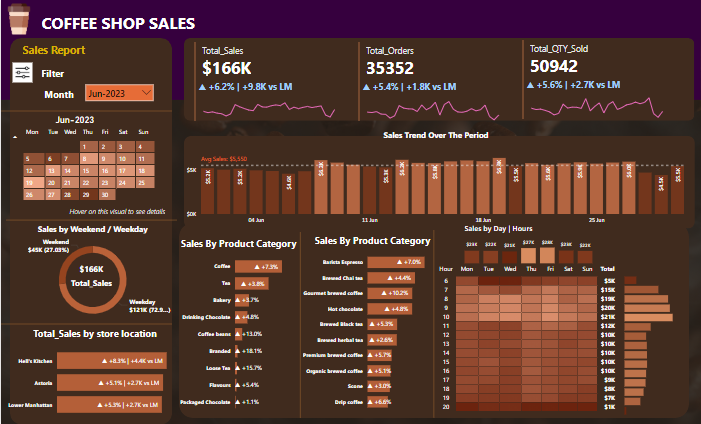

The page's visual inventory and layout, read from the dashboard file:
{"tool":"powerbi","page":{"name":"Page 1","canvas":[1400,850],"ordinal":0},"visuals":[{"type":"shape","box":[0,0,1399.6,199.7],"z":0},{"type":"shape","box":[18.8,76.8,324.3,773.2],"z":1000},{"type":"shape","box":[367,76.8,1020.7,165.6],"z":2000},{"type":"textbox","box":[76,18,358,58],"z":3000},{"type":"cardVisual","fields":{"Data":["Transactions.Total_QTY_Sold"]},"box":[1038,76,300,166],"z":4000,"group":"g3"},{"type":"cardVisual","fields":{"Data":["Transactions.Total_Sales"]},"box":[382,80,300,166],"z":4000,"group":"g1"},{"type":"cardVisual","fields":{"Data":["Transactions.Total_Orders"]},"box":[710,80,300,166],"z":4000,"group":"g2"},{"type":"slicer","fields":{"Values":["Date_Table.Month_Year"]},"box":[164,164,146,44],"z":4000},{"type":"group","id":"g1","title":"Group 1","box":[382,80,300,166],"z":5000},{"type":"lineChart","fields":{"Category":["Date_Table.Date.Variation.Date Hierarchy.Year","Date_Table.Date.Variation.Date Hierarchy.Quarter","Date_Table.Date.Variation.Date Hierarchy.Month","Date_Table.Date.Variation.Date Hierarchy.Day"],"Y":["Transactions.Total_QTY_Sold"]},"box":[1046,155.6,292.2,86.7],"z":5001,"group":"g3"},{"type":"lineChart","fields":{"Y":["Transactions.Total_Sales"],"Category":["Date_Table.Date.Variation.Date Hierarchy.Year","Date_Table.Date.Variation.Date Hierarchy.Quarter","Date_Table.Date.Variation.Date Hierarchy.Month","Date_Table.Date.Variation.Date Hierarchy.Day"]},"box":[390,159.6,292.2,86.7],"z":5001,"group":"g1"},{"type":"lineChart","fields":{"Category":["Date_Table.Date.Variation.Date Hierarchy.Year","Date_Table.Date.Variation.Date Hierarchy.Quarter","Date_Table.Date.Variation.Date Hierarchy.Month","Date_Table.Date.Variation.Date Hierarchy.Day"],"Y":["Transactions.Total_Orders"]},"box":[718,159.6,292.2,86.7],"z":5001,"group":"g2"},{"type":"group","id":"g2","title":"Group 1","box":[710,80,300,166],"z":6000},{"type":"group","id":"g3","title":"Group 1","box":[1038,76,300,166],"z":7000},{"type":"pivotTable","fields":{"Rows":["Date_Table.Week_Num"],"Columns":["Date_Table.Day_Name"],"Values":["Min(Date_Table.Day_Number)"]},"box":[13.3,246.7,315,200],"z":8000},{"type":"cardVisual","fields":{"Data":["Min(Date_Table.Month_Year)"]},"box":[91.7,203.3,136.7,53.3],"z":9000},{"type":"textbox","box":[91.7,408.3,250,55],"z":10000},{"type":"shape","box":[10,436.7,341.7,8.3],"z":11000},{"type":"shape","box":[0,218,342,8],"z":12000},{"type":"donutChart","title":"Sales by Weekend / Weekday","fields":{"Category":["Date_Table.Weekend / Weekday"],"Y":["Transactions.Total_Sales"]},"box":[0,446.7,366.7,206.7],"z":13000},{"type":"card","fields":{"Values":["Transactions.Total_Sales"]},"box":[50,505.7,261.4,88.6],"z":14000},{"type":"shape","box":[0,644,342,8],"z":15000},{"type":"barChart","title":"Total_Sales by store location","fields":{"Category":["Transactions.store_location"],"Y":["Transactions.Total_Sales"]},"box":[8,654,360,196],"z":16000},{"type":"shape","box":[365,271.7,1021.7,185],"z":17000},{"type":"columnChart","title":"Sales Trend Over The Period","fields":{"Category":["Transactions.transaction_date"],"Y":["Transactions.Total_Sales"]},"box":[366,258,1008,198],"z":18000},{"type":"shape","box":[356,446,1020,390],"z":19000},{"type":"barChart","title":"Sales By Product Category","fields":{"Category":["Transactions.product_category"],"Y":["Transactions.Total_Sales"]},"box":[351.7,473.3,246.7,361.7],"z":20000},{"type":"shape","box":[581.7,463.3,33.3,371.7],"z":21000},{"type":"barChart","title":"Sales By Product Category","fields":{"Y":["Transactions.Total_Sales"],"Category":["Transactions.product_type"]},"box":[598.8,468.8,290,365],"z":22000},{"type":"shape","box":[853.3,460,23.3,375],"z":23000},{"type":"pivotTable","fields":{"Rows":["Transactions.Hour"],"Columns":["Date_Table.Day_Name"],"Values":["Transactions.Total_Sales"]},"box":[866,524,390,310],"z":24000},{"type":"barChart","fields":{"Category":["Transactions.Hour"],"Y":["Transactions.Total_Sales"]},"box":[1242,540,146,294],"z":25000},{"type":"columnChart","title":"Sales by Day | Hours","fields":{"Category":["Date_Table.Day_Name"],"Y":["Transactions.Total_Sales"]},"box":[921.7,446.7,266.7,86.7],"z":26000},{"type":"textbox","box":[72,170,88,64],"z":26001},{"type":"textbox","box":[38,80,300,42],"z":26002},{"type":"textbox","box":[76,128,138,56],"z":26004},{"type":"image","box":[0,0,72,76],"z":26005},{"type":"image","box":[10,120,66,50],"z":26006}]}

Visuals, with their boxes in screenshot pixels (x1, y1, x2, y2), scaled from the page's 1400x850 canvas onto the 701x424 screenshot:
shape: locate(0, 0, 700, 100)
shape: locate(9, 38, 172, 423)
shape: locate(184, 38, 695, 121)
textbox: locate(38, 9, 217, 38)
cardVisual - Transactions.Total_QTY_Sold: locate(520, 38, 670, 121)
cardVisual - Transactions.Total_Sales: locate(191, 40, 341, 123)
cardVisual - Transactions.Total_Orders: locate(356, 40, 506, 123)
slicer - Date_Table.Month_Year: locate(82, 82, 155, 104)
"Group 1" group: locate(191, 40, 341, 123)
lineChart - Date_Table.Date.Variation.Date Hierarchy.Year x Date_Table.Date.Variation.Date Hierarchy.Quarter: locate(524, 78, 670, 121)
lineChart - Transactions.Total_Sales x Date_Table.Date.Variation.Date Hierarchy.Year: locate(195, 80, 342, 123)
lineChart - Date_Table.Date.Variation.Date Hierarchy.Year x Date_Table.Date.Variation.Date Hierarchy.Quarter: locate(360, 80, 506, 123)
"Group 1" group: locate(356, 40, 506, 123)
"Group 1" group: locate(520, 38, 670, 121)
pivotTable - Date_Table.Week_Num x Date_Table.Day_Name: locate(7, 123, 164, 223)
cardVisual - Min(Date_Table.Month_Year): locate(46, 101, 114, 128)
textbox: locate(46, 204, 171, 231)
shape: locate(5, 218, 176, 222)
shape: locate(0, 109, 171, 113)
"Sales by Weekend / Weekday" donutChart: locate(0, 223, 184, 326)
card - Transactions.Total_Sales: locate(25, 252, 156, 296)
shape: locate(0, 321, 171, 325)
"Total_Sales by store location" barChart: locate(4, 326, 184, 423)
shape: locate(183, 136, 694, 228)
"Sales Trend Over The Period" columnChart: locate(183, 129, 688, 227)
shape: locate(178, 222, 689, 417)
"Sales By Product Category" barChart: locate(176, 236, 300, 417)
shape: locate(291, 231, 308, 417)
"Sales By Product Category" barChart: locate(300, 234, 445, 416)
shape: locate(427, 229, 439, 417)
pivotTable - Transactions.Hour x Date_Table.Day_Name: locate(434, 261, 629, 416)
barChart - Transactions.Hour x Transactions.Total_Sales: locate(622, 269, 695, 416)
"Sales by Day | Hours" columnChart: locate(462, 223, 595, 266)
textbox: locate(36, 85, 80, 117)
textbox: locate(19, 40, 169, 61)
textbox: locate(38, 64, 107, 92)
image: locate(0, 0, 36, 38)
image: locate(5, 60, 38, 85)
